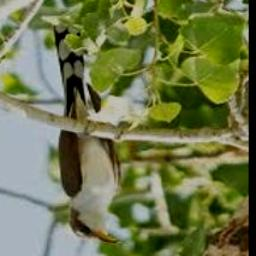Cuckoo: (53, 21, 123, 243)
